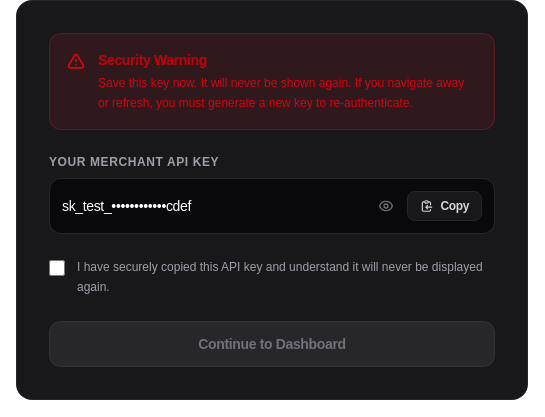
Test case: ApiKeyDisplay Component › copies API key to clipboard when copy button is clicked
Click the button "Copy".
click(445, 206)  # box [407,191,482,221]
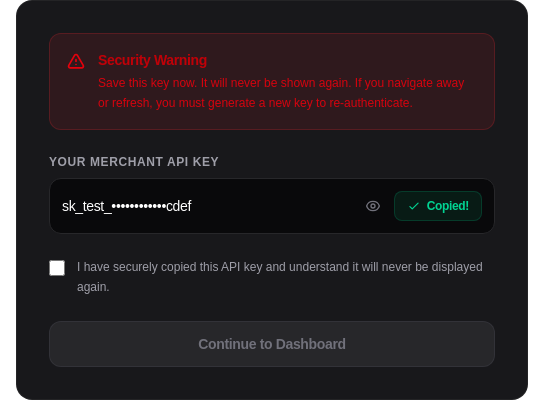
Expected: the button "Copied!" is shown, [394,191,482,221]
